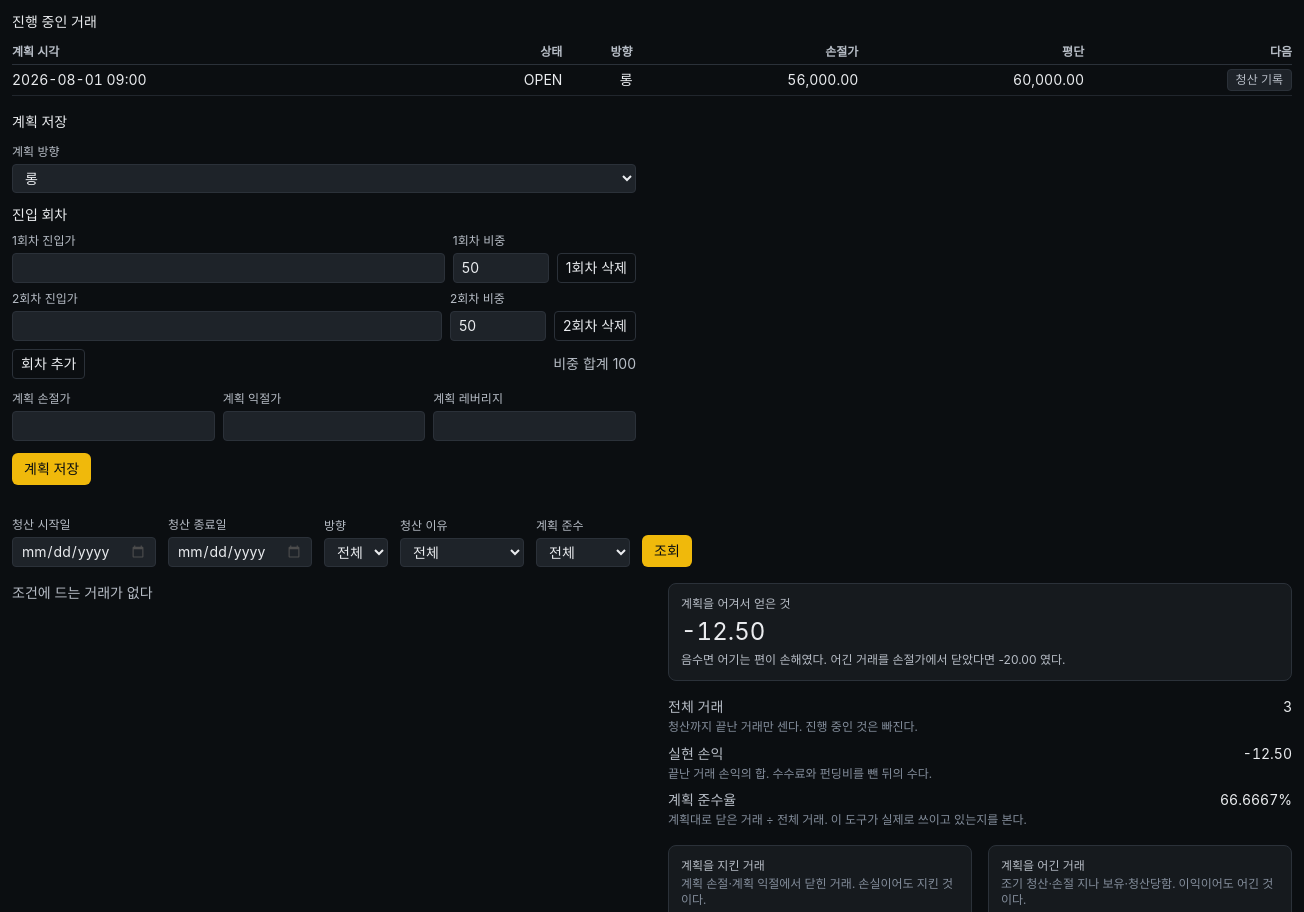
매매 기록 › 청산 폼에는 손익 입력란이 없다
The image size is (1304, 912).
Click the button "청산 기록": (1259,80) [1227,69,1292,91]
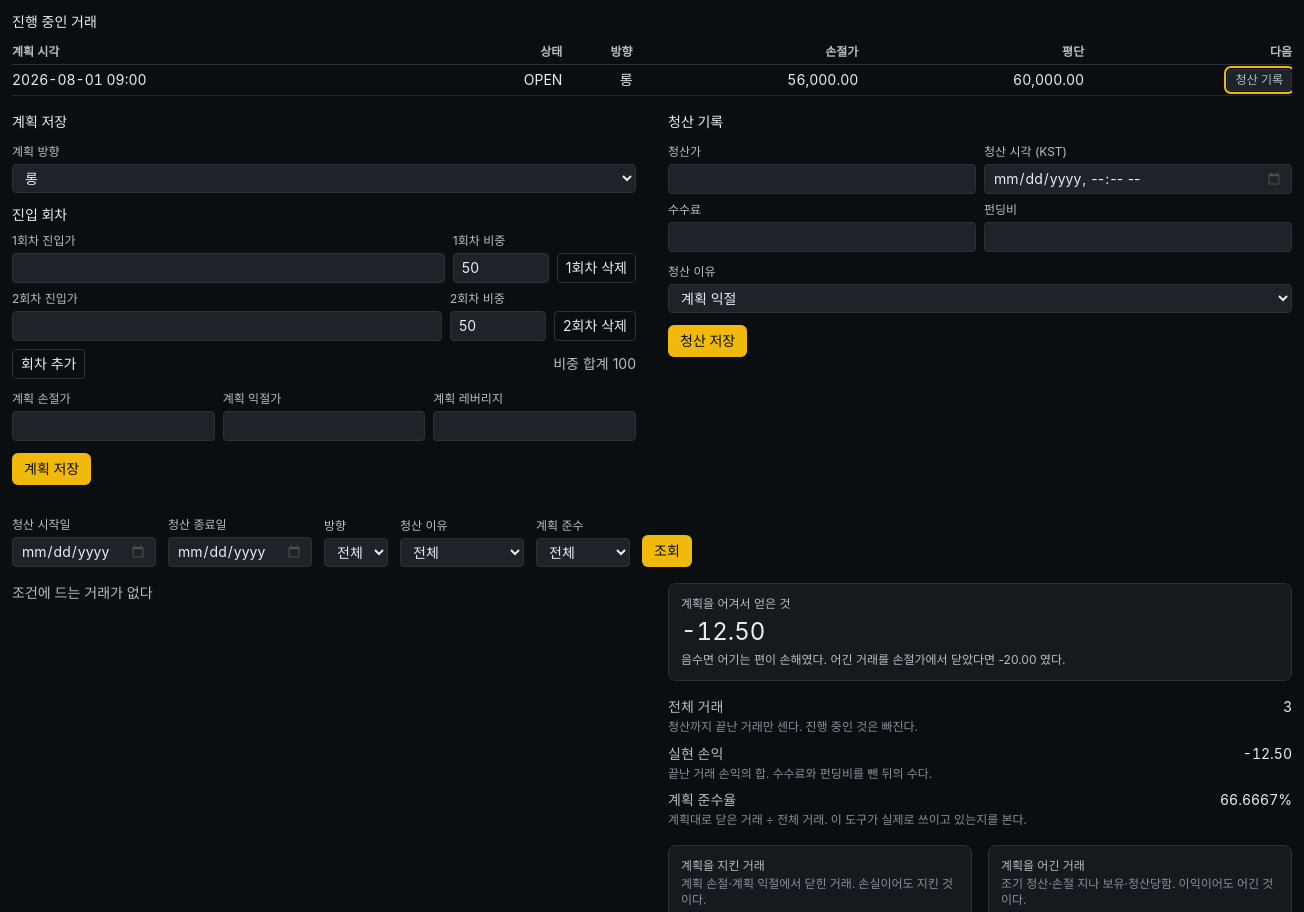
Check: the number field labelled "수수료" is shown, box [668,222,976,252]
Check: the number field labelled "펀딩비" is shown, box [984,222,1292,252]
